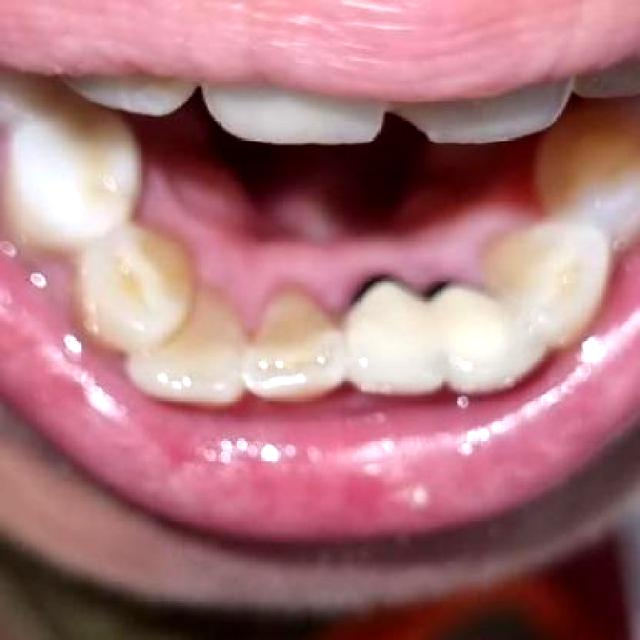Plaque: (246, 252, 390, 325)
